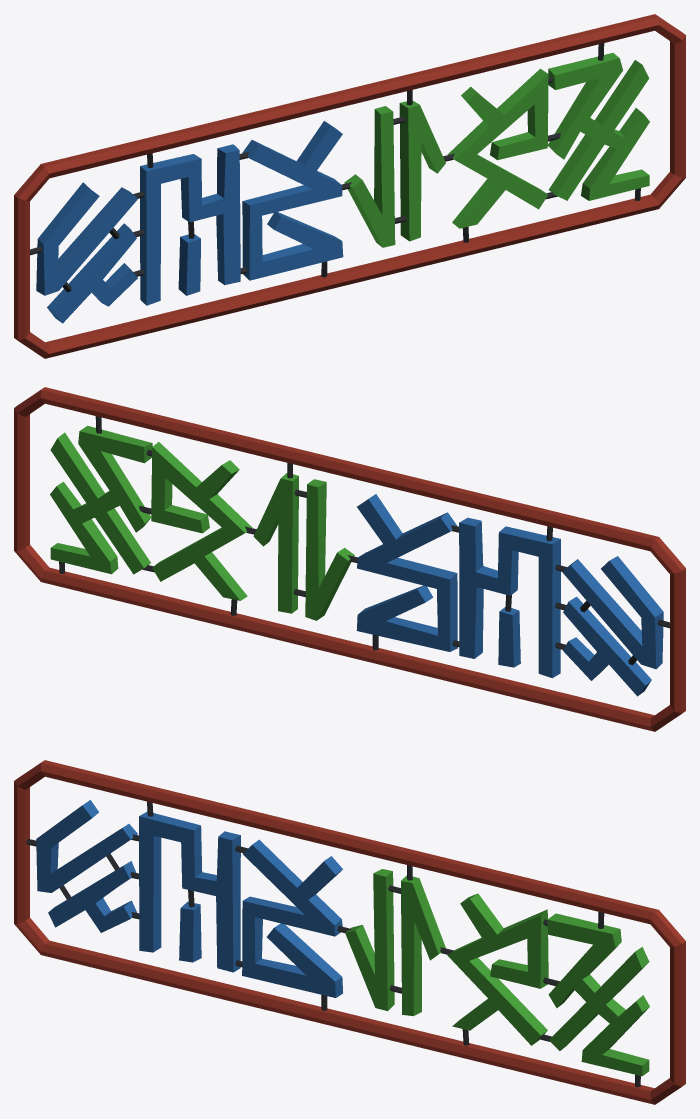
The model's file is SM_Prop_Neon_Sign_04.fbx.
3 renders of one model, top to bottom at view 1: azimuth 30°, elevation 25°; view 2: azimuth 150°, elevation 25°; view 3: azimuth 330°, elevation 25°, orthographic.
Parts seen in each view (by area): view 1: SM_Prop_Neon_Sign_04; view 2: SM_Prop_Neon_Sign_04; view 3: SM_Prop_Neon_Sign_04.
Part boxes in pixels (<box>): SM_Prop_Neon_Sign_04: <box>14,14,685,358</box>; SM_Prop_Neon_Sign_04: <box>14,387,685,731</box>; SM_Prop_Neon_Sign_04: <box>14,760,685,1104</box>.
Size of the model in its own units: 31.43 by 8.64 by 0.672.
